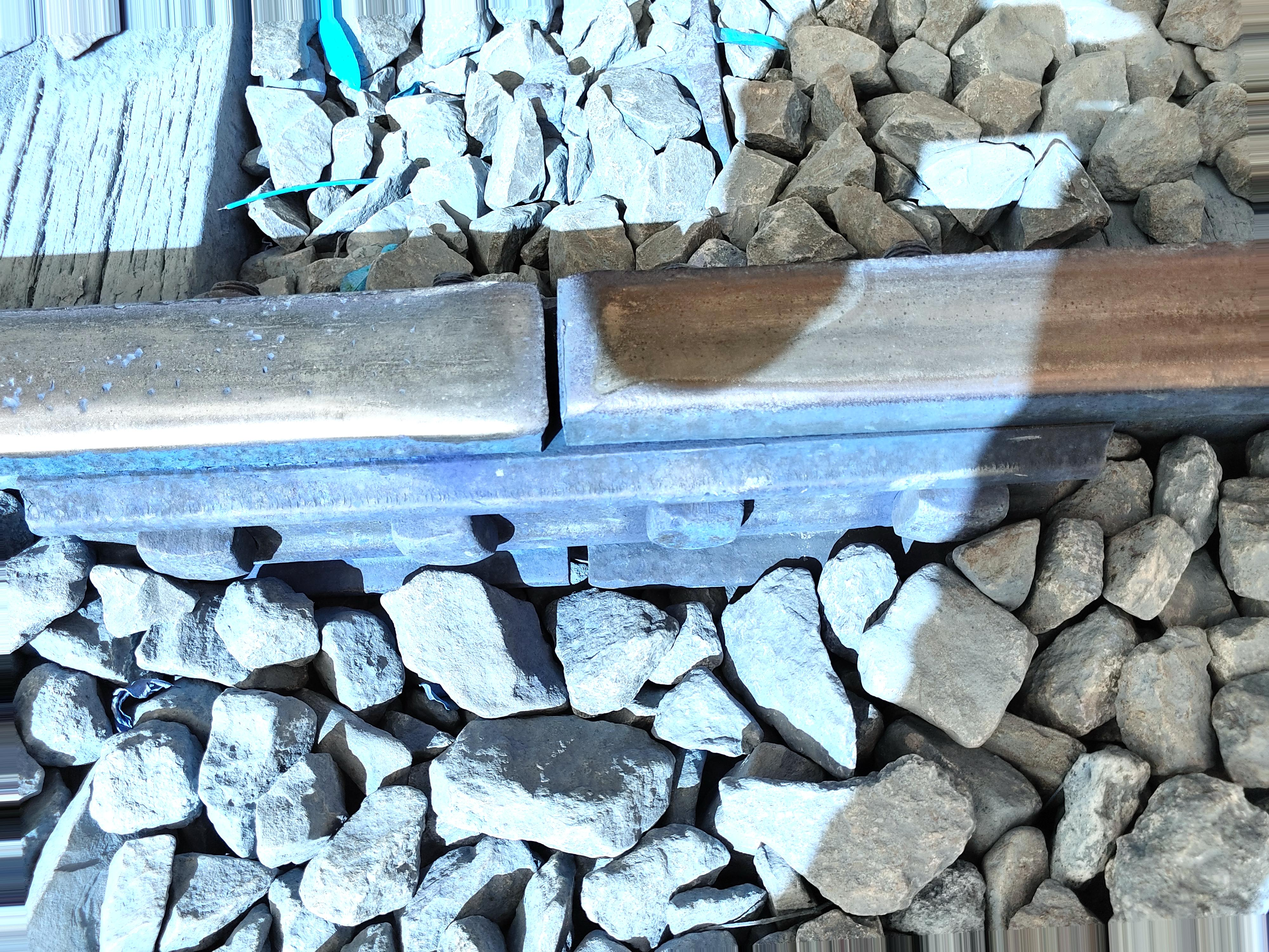tracks_fault: (449, 207, 730, 527)
